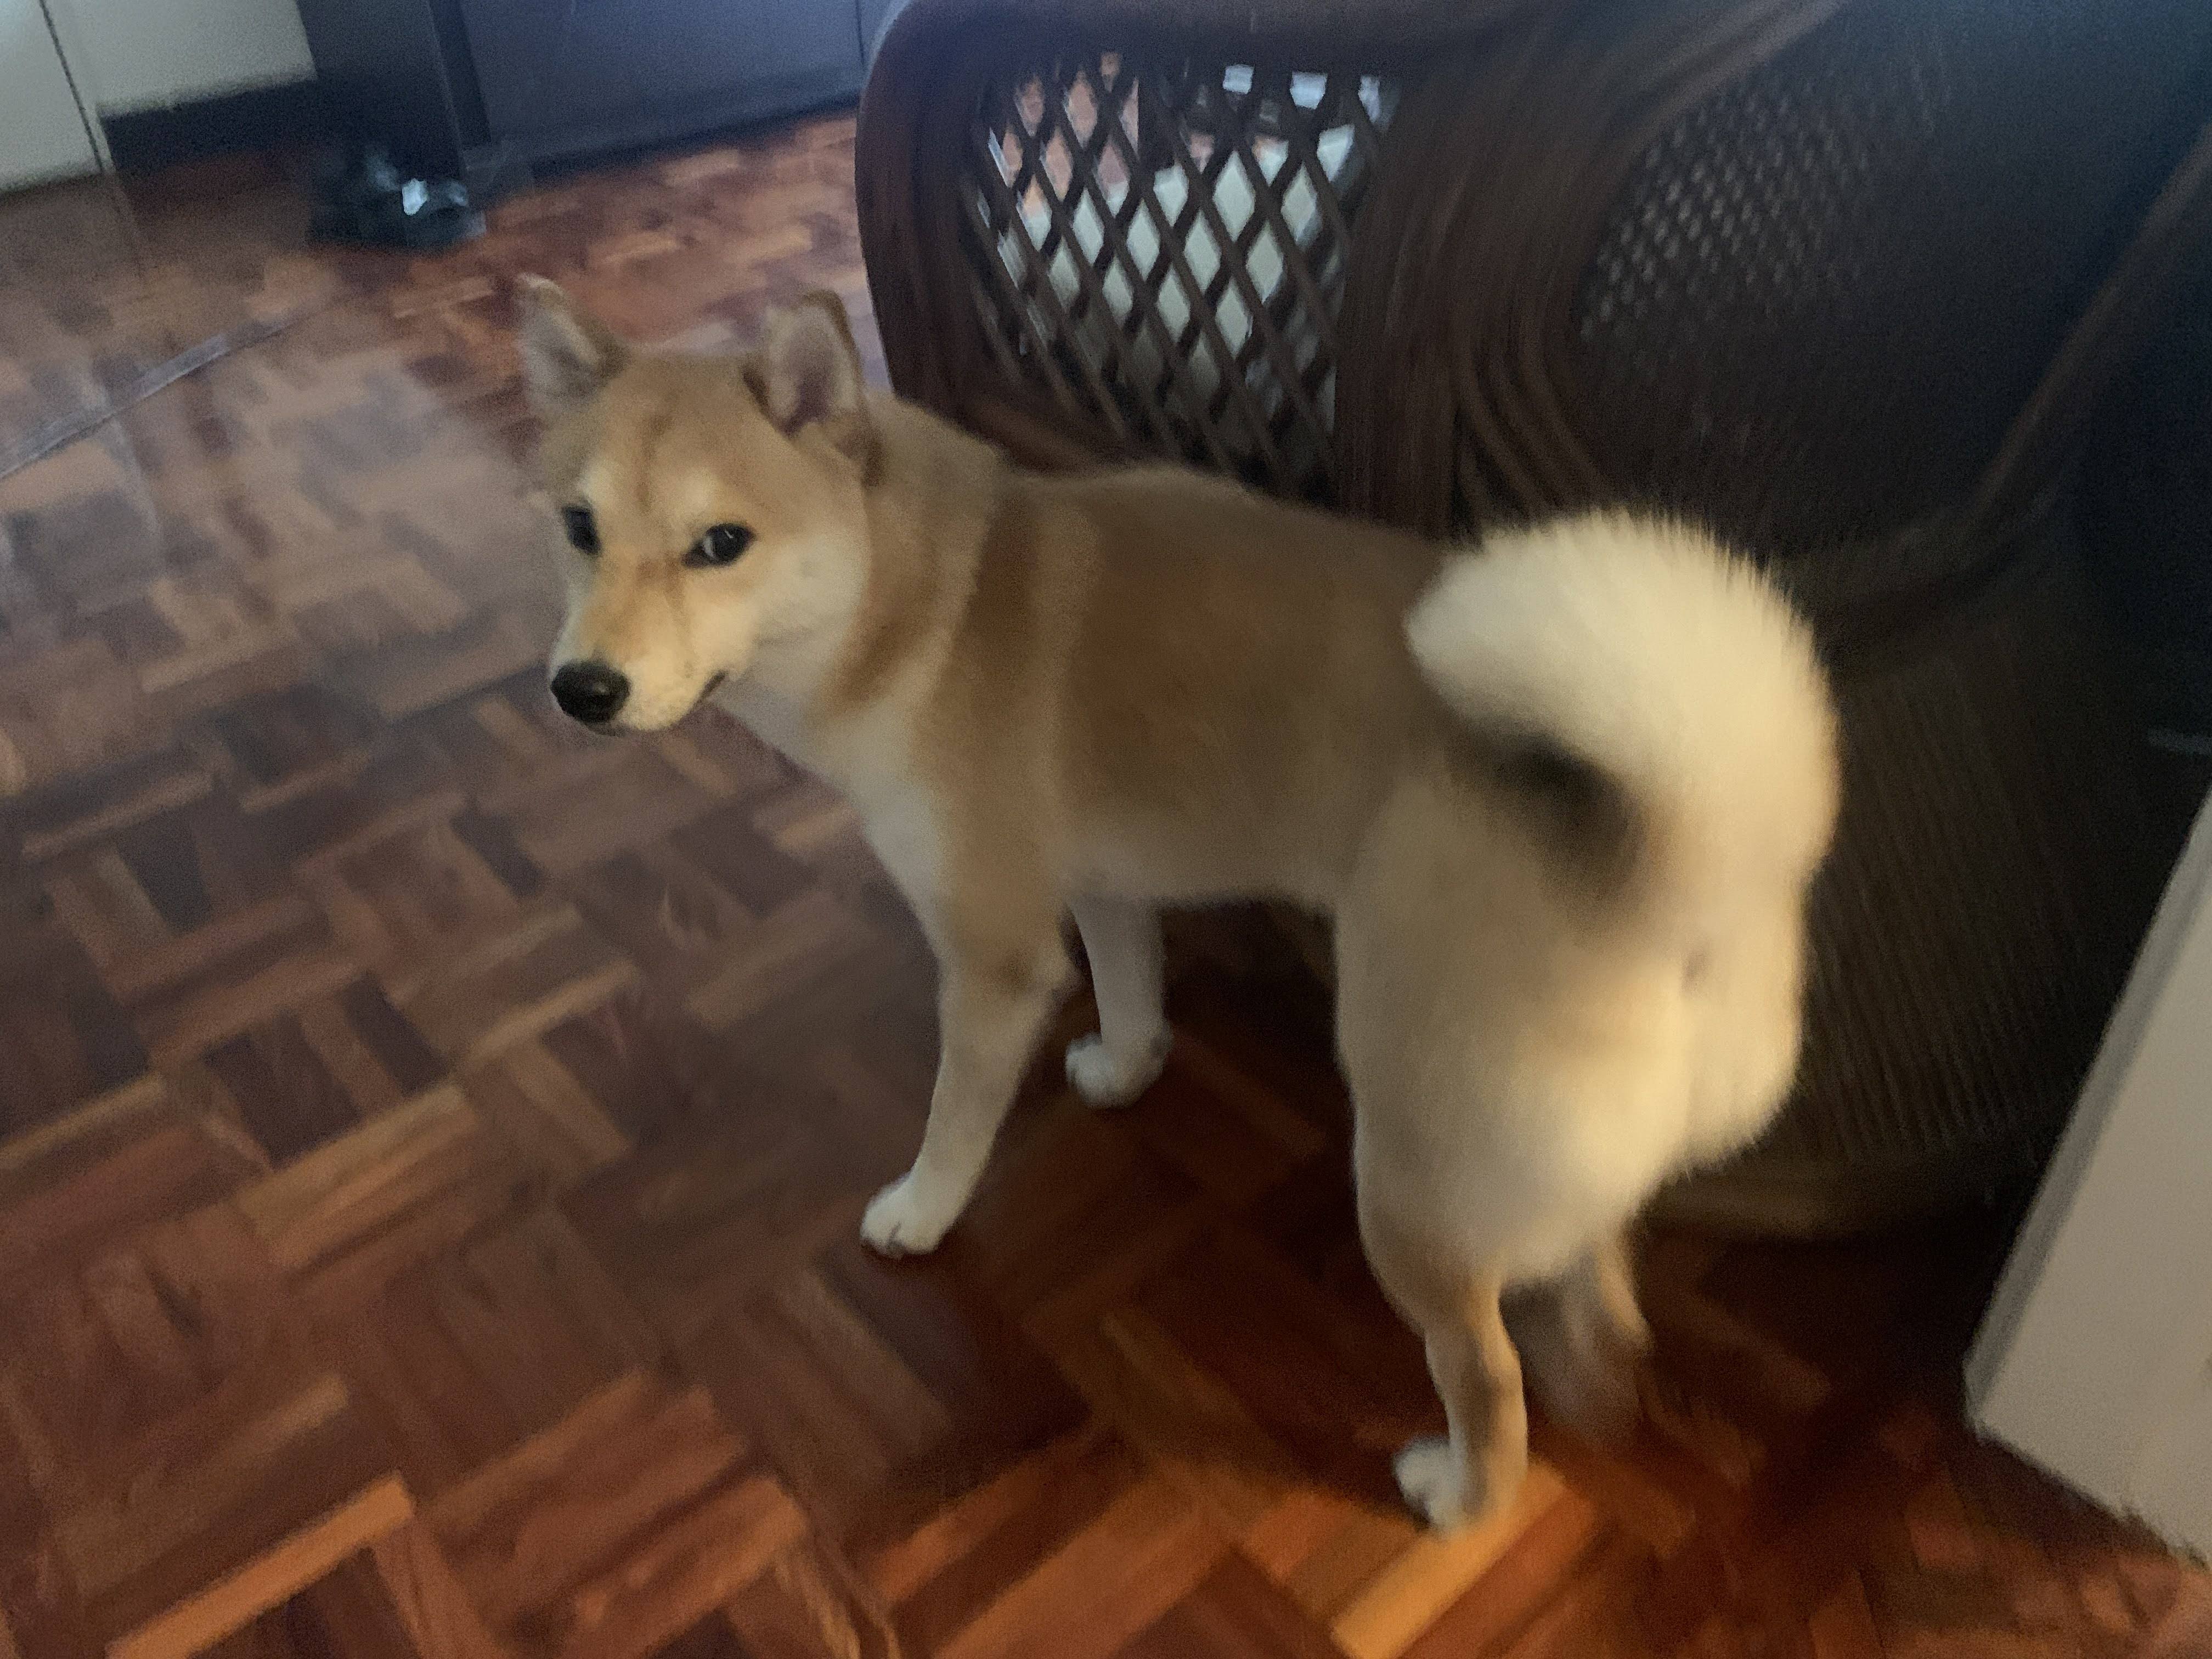Stand up: (463, 211, 1890, 1547)
